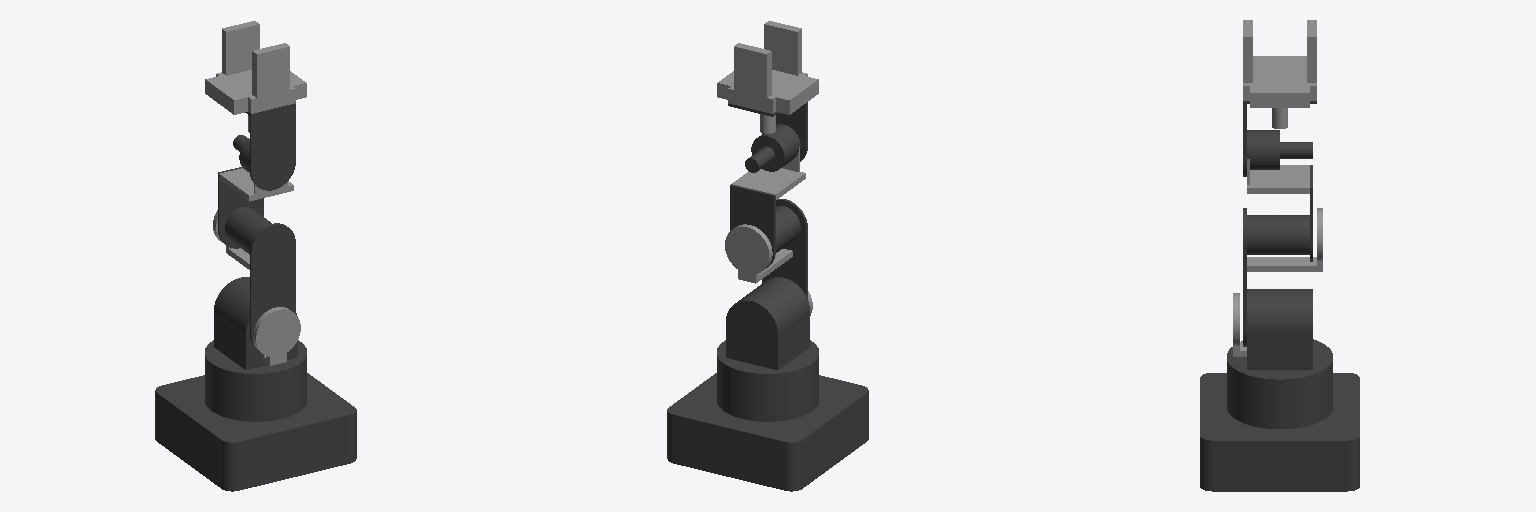
The robot description file, URDF, robot "marav1":
<?xml version="1.0"?>
<robot name="marav1">

  <!-- Materials -->
  <material name="Generic">
    <color rgba="0.314 0.314 0.314 1.0"/>
  </material>
  <material name="Steel">
    <color rgba="0.627 0.627 0.627 1.0"/>
  </material>

  <link name="base_link">
    <inertial>
      <origin xyz="-0.000000 0.000000 0.059067" rpy="0 0 0"/>
      <mass value="6.450568"/>
      <inertia ixx="3.760489e-02" ixy="0.000000e+00" ixz="0.000000e+00"
               iyy="3.760489e-02" iyz="0.000000e+00" izz="5.094901e-02"/>
    </inertial>
    <visual>
      <origin xyz="0.000000 0.000000 0.000000" rpy="0.000000 0.000000 0.000000"/>
      <geometry>
        <mesh filename="package://marav1_description/meshes/marav1/base_link.dae" scale="1 1 1"/>
      </geometry>
      <material name="Generic"/>
    </visual>
    <collision>
      <origin xyz="0.000000 0.000000 0.000000" rpy="0.000000 0.000000 0.000000"/>
      <geometry>
        <mesh filename="package://marav1_description/meshes/marav1/base_link.dae" scale="1 1 1"/>
      </geometry>
    </collision>
  </link>

  <link name="2nd_link">
    <inertial>
      <origin xyz="-0.000000 0.000000 0.116114" rpy="0 0 0"/>
      <mass value="0.645342"/>
      <inertia ixx="1.213519e-03" ixy="0.000000e+00" ixz="0.000000e+00"
               iyy="1.232369e-03" iyz="0.000000e+00" izz="1.086307e-03"/>
    </inertial>
    <visual>
      <origin xyz="0.000000 0.000000 0.160000" rpy="3.141593 0.000000 0.000000"/>
      <geometry>
        <mesh filename="package://marav1_description/meshes/marav1/2nd_link.dae" scale="1 1 1"/>
      </geometry>
      <material name="Generic"/>
    </visual>
    <collision>
      <origin xyz="0.000000 0.000000 0.160000" rpy="3.141593 0.000000 0.000000"/>
      <geometry>
        <mesh filename="package://marav1_description/meshes/marav1/2nd_link.dae" scale="1 1 1"/>
      </geometry>
    </collision>
  </link>

  <link name="1st_encoder">
    <inertial>
      <origin xyz="0.000000 -0.064450 0.216830" rpy="0 0 0"/>
      <mass value="0.457037"/>
      <inertia ixx="2.812931e-04" ixy="0.000000e+00" ixz="0.000000e+00"
               iyy="4.400538e-04" iyz="1.050758e-05" izz="1.711258e-04"/>
    </inertial>
    <visual>
      <origin xyz="0.000000 0.000000 0.000000" rpy="0.000000 0.000000 0.000000"/>
      <geometry>
        <mesh filename="package://marav1_description/meshes/marav1/1st_encoder.dae" scale="1 1 1"/>
      </geometry>
      <material name="Steel"/>
    </visual>
    <collision>
      <origin xyz="0.000000 0.000000 0.000000" rpy="0.000000 0.000000 0.000000"/>
      <geometry>
        <mesh filename="package://marav1_description/meshes/marav1/1st_encoder.dae" scale="1 1 1"/>
      </geometry>
    </collision>
  </link>

  <link name="3rd_link">
    <inertial>
      <origin xyz="0.000000 -0.212420 0.005057" rpy="0 0 0"/>
      <mass value="0.349739"/>
      <inertia ixx="8.111995e-04" ixy="0.000000e+00" ixz="0.000000e+00"
               iyy="4.853991e-04" iyz="-1.570435e-04" izz="5.265127e-04"/>
    </inertial>
    <visual>
      <origin xyz="0.000000 -0.223000 0.050000" rpy="-1.570796 0.000000 0.000000"/>
      <geometry>
        <mesh filename="package://marav1_description/meshes/marav1/3rd_link.dae" scale="1 1 1"/>
      </geometry>
      <material name="Generic"/>
    </visual>
    <collision>
      <origin xyz="0.000000 -0.223000 0.050000" rpy="-1.570796 0.000000 0.000000"/>
      <geometry>
        <mesh filename="package://marav1_description/meshes/marav1/3rd_link.dae" scale="1 1 1"/>
      </geometry>
    </collision>
  </link>

  <link name="2nd_encoder">
    <inertial>
      <origin xyz="0.000000 -0.138267 0.202407" rpy="0 0 0"/>
      <mass value="0.694601"/>
      <inertia ixx="1.339629e-03" ixy="0.000000e+00" ixz="0.000000e+00"
               iyy="7.336782e-04" iyz="4.169385e-04" izz="9.739059e-04"/>
    </inertial>
    <visual>
      <origin xyz="0.000000 0.000000 0.000000" rpy="0.000000 0.000000 0.000000"/>
      <geometry>
        <mesh filename="package://marav1_description/meshes/marav1/2nd_encoder.dae" scale="1 1 1"/>
      </geometry>
      <material name="Steel"/>
    </visual>
    <collision>
      <origin xyz="0.000000 0.000000 0.000000" rpy="0.000000 0.000000 0.000000"/>
      <geometry>
        <mesh filename="package://marav1_description/meshes/marav1/2nd_encoder.dae" scale="1 1 1"/>
      </geometry>
    </collision>
  </link>

  <link name="4th_link">
    <inertial>
      <origin xyz="-0.000000 -0.358006 0.101929" rpy="0 0 0"/>
      <mass value="0.334110"/>
      <inertia ixx="5.375402e-04" ixy="0.000000e+00" ixz="0.000000e+00"
               iyy="4.448757e-04" iyz="7.412763e-05" izz="2.713387e-04"/>
    </inertial>
    <visual>
      <origin xyz="0.000000 -0.363000 0.055000" rpy="1.570796 0.000000 3.141593"/>
      <geometry>
        <mesh filename="package://marav1_description/meshes/marav1/4th_link.dae" scale="1 1 1"/>
      </geometry>
      <material name="Generic"/>
    </visual>
    <collision>
      <origin xyz="0.000000 -0.363000 0.055000" rpy="1.570796 0.000000 3.141593"/>
      <geometry>
        <mesh filename="package://marav1_description/meshes/marav1/4th_link.dae" scale="1 1 1"/>
      </geometry>
    </collision>
  </link>

  <link name="wrist_base">
    <inertial>
      <origin xyz="0.000000 -0.099628 0.175927" rpy="0 0 0"/>
      <mass value="0.626937"/>
      <inertia ixx="5.202821e-04" ixy="0.000000e+00" ixz="0.000000e+00"
               iyy="3.449137e-04" iyz="2.461930e-05" izz="8.337110e-04"/>
    </inertial>
    <visual>
      <origin xyz="0.000000 0.000000 0.000000" rpy="0.000000 0.000000 0.000000"/>
      <geometry>
        <mesh filename="package://marav1_description/meshes/marav1/wrist_base.dae" scale="1 1 1"/>
      </geometry>
      <material name="Steel"/>
    </visual>
    <collision>
      <origin xyz="0.000000 0.000000 0.000000" rpy="0.000000 0.000000 0.000000"/>
      <geometry>
        <mesh filename="package://marav1_description/meshes/marav1/wrist_base.dae" scale="1 1 1"/>
      </geometry>
    </collision>
  </link>

  <link name="5th_link">
    <inertial>
      <origin xyz="0.000000 0.077420 0.033596" rpy="0 0 0"/>
      <mass value="0.260482"/>
      <inertia ixx="6.404395e-04" ixy="0.000000e+00" ixz="0.000000e+00"
               iyy="2.842973e-04" iyz="4.233056e-05" izz="5.191967e-04"/>
    </inertial>
    <visual>
      <origin xyz="0.000000 0.000000 0.000000" rpy="1.570796 0.000000 -3.141593"/>
      <geometry>
        <mesh filename="package://marav1_description/meshes/marav1/5th_link.dae" scale="1 1 1"/>
      </geometry>
      <material name="Generic"/>
    </visual>
    <collision>
      <origin xyz="0.000000 0.000000 0.000000" rpy="1.570796 0.000000 -3.141593"/>
      <geometry>
        <mesh filename="package://marav1_description/meshes/marav1/5th_link.dae" scale="1 1 1"/>
      </geometry>
    </collision>
  </link>

  <link name="gripper_motor">
    <inertial>
      <origin xyz="-0.000000 0.000000 0.570500" rpy="0 0 0"/>
      <mass value="0.211935"/>
      <inertia ixx="6.170393e-05" ixy="0.000000e+00" ixz="0.000000e+00"
               iyy="6.170393e-05" iyz="0.000000e+00" izz="1.655740e-05"/>
    </inertial>
    <visual>
      <origin xyz="0.000000 0.000000 0.000000" rpy="0.000000 0.000000 0.000000"/>
      <geometry>
        <mesh filename="package://marav1_description/meshes/marav1/gripper_motor.dae" scale="1 1 1"/>
      </geometry>
      <material name="Steel"/>
    </visual>
    <collision>
      <origin xyz="0.000000 0.000000 0.000000" rpy="0.000000 0.000000 0.000000"/>
      <geometry>
        <mesh filename="package://marav1_description/meshes/marav1/gripper_motor.dae" scale="1 1 1"/>
      </geometry>
    </collision>
  </link>

  <link name="camera_holder">
    <inertial>
      <origin xyz="0.000000 0.000000 0.615500" rpy="0 0 0"/>
      <mass value="2.610125"/>
      <inertia ixx="2.473445e-03" ixy="0.000000e+00" ixz="0.000000e+00"
               iyy="3.537120e-03" iyz="0.000000e+00" izz="5.738677e-03"/>
    </inertial>
    <visual>
      <origin xyz="0.000000 0.000000 0.000000" rpy="0.000000 0.000000 0.000000"/>
      <geometry>
        <mesh filename="package://marav1_description/meshes/marav1/camera_holder.dae" scale="1 1 1"/>
      </geometry>
      <material name="Steel"/>
    </visual>
    <collision>
      <origin xyz="0.000000 0.000000 0.000000" rpy="0.000000 0.000000 0.000000"/>
      <geometry>
        <mesh filename="package://marav1_description/meshes/marav1/camera_holder.dae" scale="1 1 1"/>
      </geometry>
    </collision>
  </link>

  <link name="gripper_tooth_1">
    <inertial>
      <origin xyz="0.000000 -0.007500 0.037500" rpy="0 0 0"/>
      <mass value="0.529875"/>
      <inertia ixx="2.583141e-04" ixy="0.000000e+00" ixz="0.000000e+00"
               iyy="4.073414e-04" iyz="0.000000e+00" izz="1.688977e-04"/>
    </inertial>
    <visual>
      <origin xyz="0.000000 -0.055000 -0.628000" rpy="0.000000 0.000000 0.000000"/>
      <geometry>
        <mesh filename="package://marav1_description/meshes/marav1/gripper_tooth_1.dae" scale="1 1 1"/>
      </geometry>
      <material name="Steel"/>
    </visual>
    <collision>
      <origin xyz="0.000000 -0.055000 -0.628000" rpy="0.000000 0.000000 0.000000"/>
      <geometry>
        <mesh filename="package://marav1_description/meshes/marav1/gripper_tooth_1.dae" scale="1 1 1"/>
      </geometry>
    </collision>
  </link>

  <link name="gripper_tooth_2">
    <inertial>
      <origin xyz="0.000000 0.102500 0.037500" rpy="0 0 0"/>
      <mass value="0.529875"/>
      <inertia ixx="2.583141e-04" ixy="0.000000e+00" ixz="0.000000e+00"
               iyy="4.073414e-04" iyz="0.000000e+00" izz="1.688977e-04"/>
    </inertial>
    <visual>
      <origin xyz="0.000000 0.055000 -0.628000" rpy="0.000000 0.000000 0.000000"/>
      <geometry>
        <mesh filename="package://marav1_description/meshes/marav1/gripper_tooth_2.dae" scale="1 1 1"/>
      </geometry>
      <material name="Steel"/>
    </visual>
    <collision>
      <origin xyz="0.000000 0.055000 -0.628000" rpy="0.000000 0.000000 0.000000"/>
      <geometry>
        <mesh filename="package://marav1_description/meshes/marav1/gripper_tooth_2.dae" scale="1 1 1"/>
      </geometry>
    </collision>
  </link>

  <joint name="Revolute_1" type="continuous">
    <parent link="base_link"/>
    <child link="2nd_link"/>
    <origin xyz="0.000000 0.000000 0.322000" rpy="3.141593 0.000000 0.000000"/>
    <axis xyz="0.000000 0.000000 1.000000"/>
    <limit effort="100.0" velocity="1.00"/>
  </joint>

  <joint name="Rigid_10" type="fixed">
    <parent link="2nd_link"/>
    <child link="1st_encoder"/>
    <origin xyz="0.000000 0.000000 0.322000" rpy="3.141593 0.000000 0.000000"/>
  </joint>

  <joint name="Revolute_2" type="continuous">
    <parent link="2nd_link"/>
    <child link="3rd_link"/>
    <origin xyz="0.000000 0.005000 -0.124000" rpy="-1.570796 0.000000 0.000000"/>
    <axis xyz="0.000000 0.000000 1.000000"/>
    <limit effort="100.0" velocity="1.00"/>
  </joint>

  <joint name="Rigid_14" type="fixed">
    <parent link="3rd_link"/>
    <child link="2nd_encoder"/>
    <origin xyz="-0.000000 -0.306000 0.095169" rpy="1.570796 0.000000 3.141593"/>
  </joint>

  <joint name="Revolute_3" type="continuous">
    <parent link="3rd_link"/>
    <child link="4th_link"/>
    <origin xyz="0.000000 0.280000 -0.110000" rpy="0.000000 0.000000 0.000000"/>
    <axis xyz="0.000000 0.000000 1.000000"/>
    <limit effort="100.0" velocity="1.00"/>
  </joint>

  <joint name="Rigid_13" type="fixed">
    <parent link="4th_link"/>
    <child link="wrist_base"/>
    <origin xyz="-0.000000 -0.446000 0.009831" rpy="-1.570796 0.000000 0.000000"/>
  </joint>

  <joint name="Revolute_4" type="continuous">
    <parent link="4th_link"/>
    <child link="5th_link"/>
    <origin xyz="0.000000 -0.123000 0.160000" rpy="3.141593 0.000000 0.000000"/>
    <axis xyz="0.000000 0.000000 1.000000"/>
    <limit effort="100.0" velocity="1.00"/>
  </joint>

  <joint name="Rigid_15" type="fixed">
    <parent link="5th_link"/>
    <child link="gripper_motor"/>
    <origin xyz="0.000000 0.603000 0.055000" rpy="1.570796 0.000000 0.000000"/>
  </joint>

  <joint name="Rigid_5" type="fixed">
    <parent link="5th_link"/>
    <child link="camera_holder"/>
    <origin xyz="0.000000 0.603000 0.055000" rpy="1.570796 0.000000 0.000000"/>
  </joint>

  <joint name="Slider_7" type="prismatic">
    <parent link="camera_holder"/>
    <child link="gripper_tooth_1"/>
    <origin xyz="0.000000 0.055000 0.628000" rpy="0.000000 0.000000 0.000000"/>
    <axis xyz="0.000000 -1.000000 0.000000"/>
    <limit lower="0.000000" upper="0.040000" effort="100.0" velocity="1.00"/>
  </joint>

  <joint name="Slider_12" type="prismatic">
    <parent link="camera_holder"/>
    <child link="gripper_tooth_2"/>
    <origin xyz="0.000000 -0.150000 0.628000" rpy="0.000000 0.000000 0.000000"/>
    <axis xyz="0.000000 1.000000 0.000000"/>
    <limit lower="0.000000" upper="0.040000" effort="100.0" velocity="1.00"/>
  </joint>

  <!-- ROS 2 control: generated generic system -->
  <ros2_control name="marav1_system" type="system">
    <hardware>
      <plugin>mock_components/GenericSystem</plugin>
      <param name="cmd_topic">sim/marav1_system/cmd</param>
      <param name="state_topic">sim/marav1_system/state</param>
    </hardware>

    <joint name="Revolute_1">
      <command_interface name="position"/>
      <command_interface name="velocity"/>
      <state_interface name="position">
        <param name="initial_value">0.0</param>
      </state_interface>
      <state_interface name="velocity"/>
      <state_interface name="effort"/>
    </joint>
    <joint name="Revolute_2">
      <command_interface name="position"/>
      <command_interface name="velocity"/>
      <state_interface name="position">
        <param name="initial_value">0.0</param>
      </state_interface>
      <state_interface name="velocity"/>
      <state_interface name="effort"/>
    </joint>
    <joint name="Revolute_3">
      <command_interface name="position"/>
      <command_interface name="velocity"/>
      <state_interface name="position">
        <param name="initial_value">0.0</param>
      </state_interface>
      <state_interface name="velocity"/>
      <state_interface name="effort"/>
    </joint>
    <joint name="Revolute_4">
      <command_interface name="position"/>
      <command_interface name="velocity"/>
      <state_interface name="position">
        <param name="initial_value">0.0</param>
      </state_interface>
      <state_interface name="velocity"/>
      <state_interface name="effort"/>
    </joint>
    <joint name="Slider_12">
      <command_interface name="position"/>
      <command_interface name="velocity"/>
      <state_interface name="position">
        <param name="initial_value">0.0</param>
      </state_interface>
      <state_interface name="velocity"/>
      <state_interface name="effort"/>
    </joint>
    <joint name="Slider_7">
      <command_interface name="position"/>
      <command_interface name="velocity"/>
      <state_interface name="position">
        <param name="initial_value">0.0</param>
      </state_interface>
      <state_interface name="velocity"/>
      <state_interface name="effort"/>
    </joint>
  </ros2_control>

</robot>

--- Render facts (derived) ---
The picture shows the robot from 3 angles, left to right: view 1: azimuth 30°, elevation 25°; view 2: azimuth 150°, elevation 25°; view 3: azimuth 270°, elevation 25°; orthographic projection.
Model marav1 with 12 links and 11 joints (4 continuous, 2 prismatic, 5 fixed), rooted at base_link, posed every joint at zero.
Visible links, largest first — view 1: base_link, 5th_link, 4th_link, 2nd_link, 3rd_link, camera_holder, 1st_encoder, gripper_tooth_2, gripper_tooth_1, wrist_base; view 2: base_link, 2nd_link, 4th_link, 5th_link, camera_holder, 3rd_link, 2nd_encoder, gripper_tooth_1, gripper_tooth_2, wrist_base; view 3: base_link, 2nd_link, camera_holder, 4th_link, 5th_link, wrist_base, 2nd_encoder, gripper_tooth_1, gripper_tooth_2, 3rd_link, 1st_encoder.
Boxes of the visible links, x1=… form: base_link: x1=155, y1=340, x2=356, y2=491; 5th_link: x1=233, y1=103, x2=295, y2=190; 4th_link: x1=218, y1=167, x2=289, y2=265; 2nd_link: x1=214, y1=277, x2=297, y2=369; 3rd_link: x1=250, y1=223, x2=295, y2=350; camera_holder: x1=205, y1=70, x2=306, y2=114; 1st_encoder: x1=253, y1=307, x2=300, y2=365; gripper_tooth_2: x1=252, y1=43, x2=289, y2=97; gripper_tooth_1: x1=222, y1=21, x2=259, y2=75; wrist_base: x1=219, y1=168, x2=293, y2=201; base_link: x1=667, y1=340, x2=868, y2=491; 2nd_link: x1=726, y1=277, x2=809, y2=369; 4th_link: x1=730, y1=184, x2=800, y2=267; 5th_link: x1=728, y1=102, x2=807, y2=172; camera_holder: x1=717, y1=70, x2=818, y2=114; 3rd_link: x1=735, y1=199, x2=807, y2=346; 2nd_encoder: x1=725, y1=224, x2=792, y2=283; gripper_tooth_1: x1=734, y1=43, x2=771, y2=97; gripper_tooth_2: x1=764, y1=21, x2=801, y2=75; wrist_base: x1=732, y1=147, x2=805, y2=199; base_link: x1=1200, y1=339, x2=1359, y2=491; 2nd_link: x1=1247, y1=289, x2=1312, y2=369; camera_holder: x1=1243, y1=56, x2=1316, y2=107; 4th_link: x1=1247, y1=165, x2=1312, y2=261; 5th_link: x1=1243, y1=101, x2=1316, y2=176; wrist_base: x1=1247, y1=159, x2=1309, y2=193; 2nd_encoder: x1=1247, y1=208, x2=1322, y2=271; gripper_tooth_1: x1=1307, y1=20, x2=1316, y2=82; gripper_tooth_2: x1=1243, y1=20, x2=1252, y2=82; 3rd_link: x1=1243, y1=208, x2=1246, y2=346; 1st_encoder: x1=1233, y1=293, x2=1246, y2=356.
Size in the robot's own frame: 0.24 by 0.24 by 0.707 metres.
12 mesh visuals loaded from 12 distinct referenced files (12 Collada DAE).
